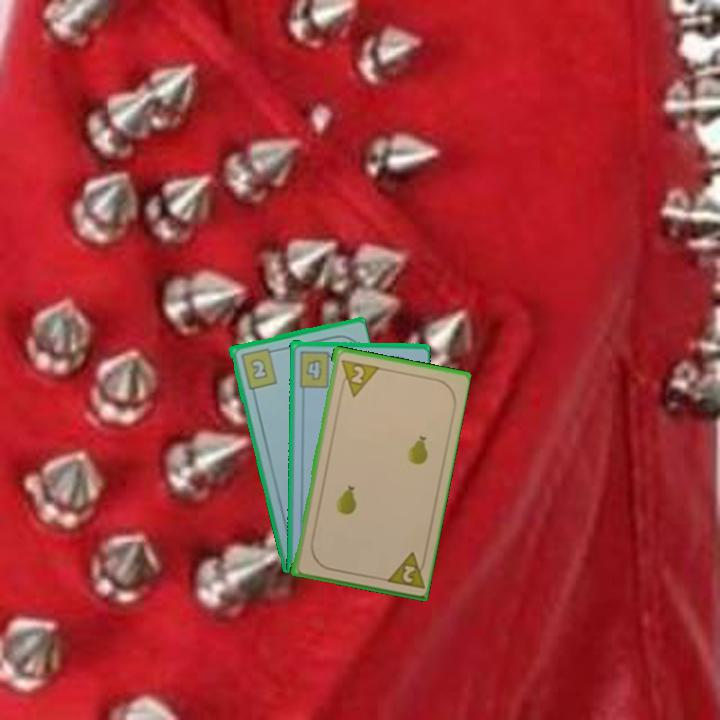2b: (237, 344, 280, 392)
2p: (381, 548, 429, 591), (337, 355, 380, 399)
4b: (296, 347, 339, 390)
